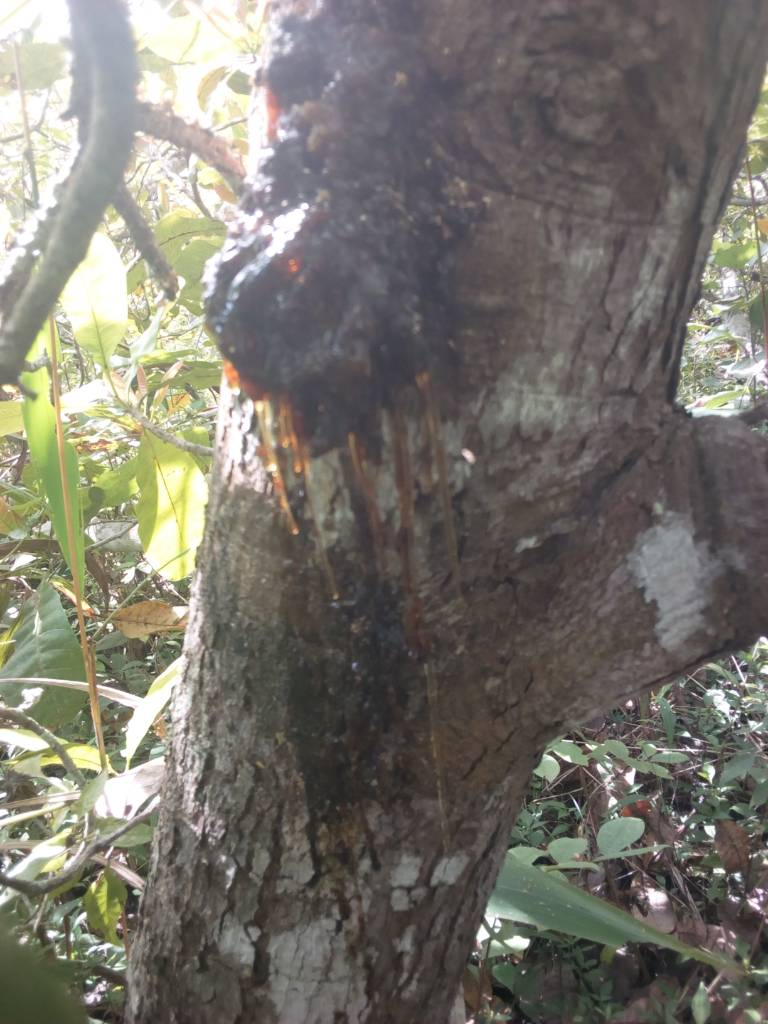Gommose: (213, 16, 463, 660)
